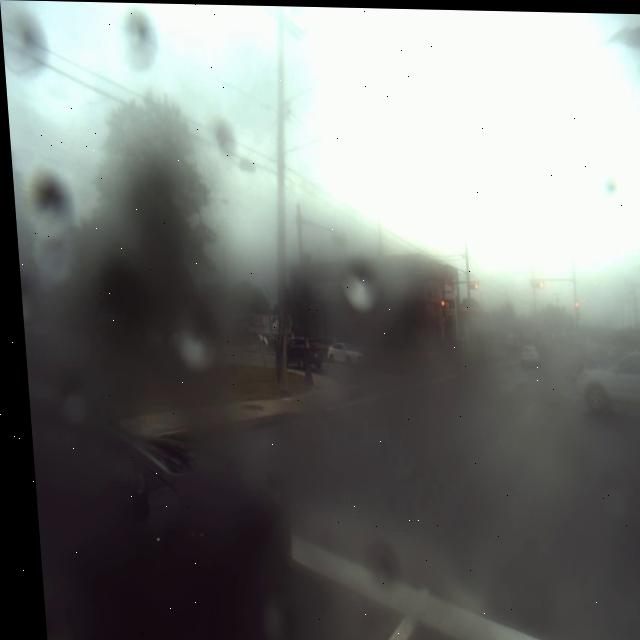car: (567, 343, 640, 423)
